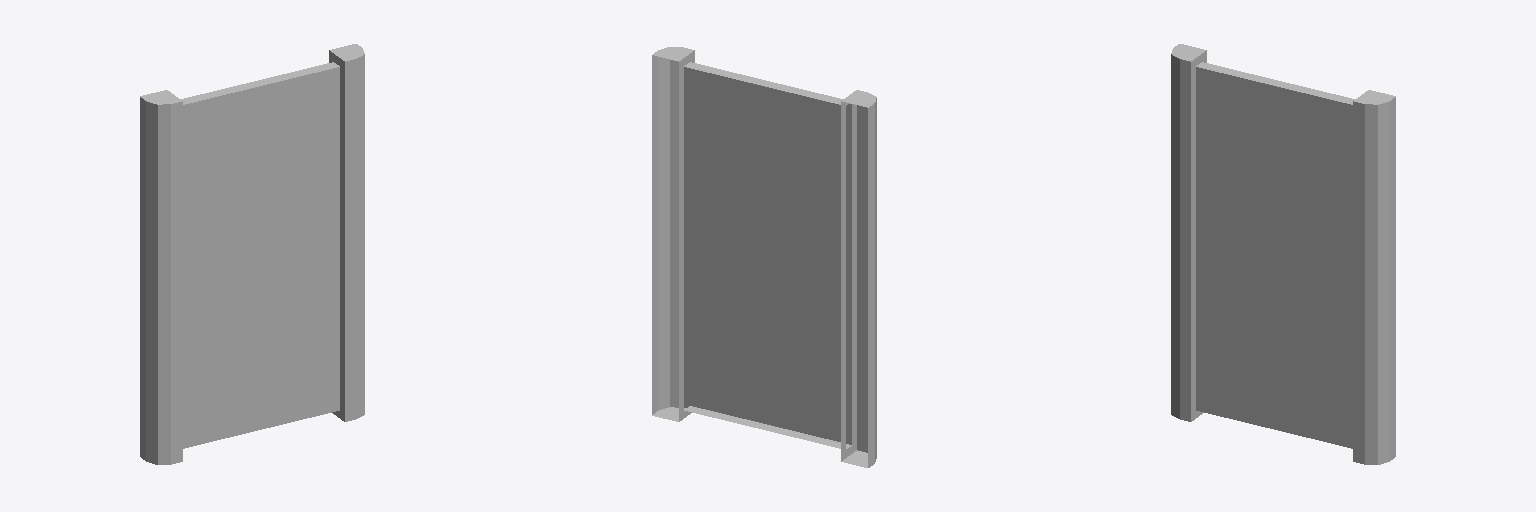
Rendered from Wall_Display_Blue.obj.
3 renders of one model, left to right at view 1: azimuth 30°, elevation 25°; view 2: azimuth 150°, elevation 25°; view 3: azimuth 330°, elevation 25°, orthographic.
Parts seen in each view (by area): view 1: Wall_Display_Blue; view 2: Wall_Display_Blue; view 3: Wall_Display_Blue.
Boxes of the visible parts, x1,y1,x2,y2 form: Wall_Display_Blue: [140, 44, 364, 464]; Wall_Display_Blue: [652, 47, 876, 467]; Wall_Display_Blue: [1171, 44, 1395, 464].
Size of the model in its own units: 1.54 by 2.46 by 0.1946.